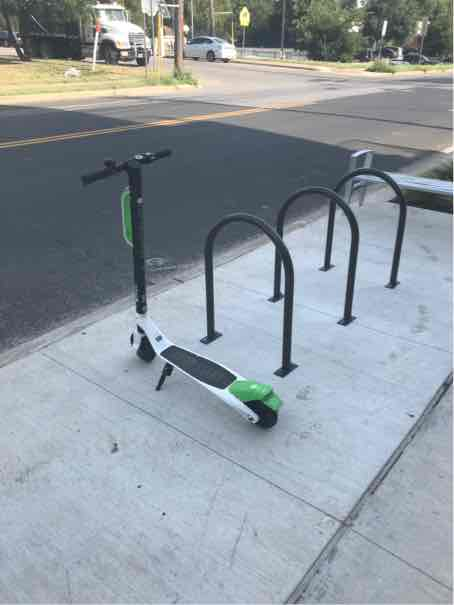scooter: (67, 141, 295, 430)
